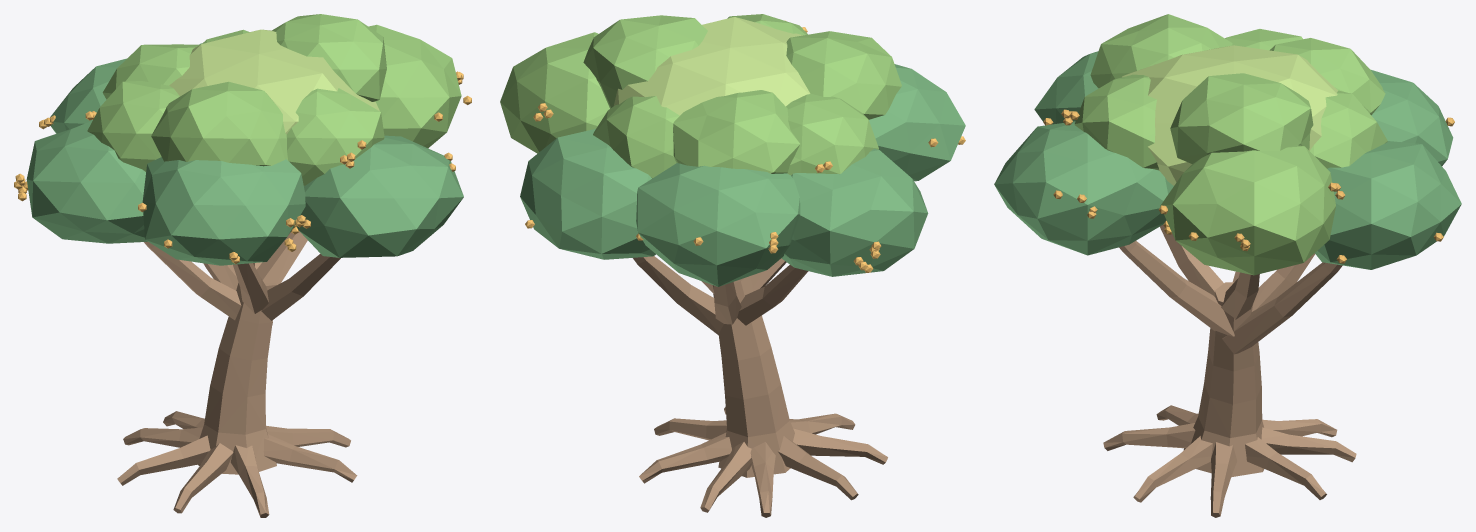
Rendered from arvore_ancia.fbx.
3 renders of one model, left to right at view 1: azimuth 30°, elevation 25°; view 2: azimuth 150°, elevation 25°; view 3: azimuth 270°, elevation 25°, orthographic. The views are drawn at different scales.
Visible parts, largest first — view 1: arvore_ancia~Copa 8@leafdark, arvore_ancia~Copa 10@leafdark, arvore_ancia~Copa 6@leafdark, arvore_ancia~Copa 9@leaf, arvore_ancia~Tronco@bark, arvore_ancia~Copa 12@leaflight, arvore_ancia~Copa 0@leaf, arvore_ancia~Copa 11@leaf, arvore_ancia~Copa 1@leaf, arvore_ancia~Copa 7@leaf, arvore_ancia~Copa 5@leaf, arvore_ancia~Copa 4@leafdark (+12 smaller); view 2: arvore_ancia~Copa 4@leafdark, arvore_ancia~Copa 6@leafdark, arvore_ancia~Copa 2@leafdark, arvore_ancia~Copa 12@leaflight, arvore_ancia~Copa 5@leaf, arvore_ancia~Copa 0@leaf, arvore_ancia~Tronco@bark, arvore_ancia~Copa 9@leaf, arvore_ancia~Copa 8@leafdark, arvore_ancia~Copa 1@leaf, arvore_ancia~Copa 7@leaf, arvore_ancia~Copa 3@leaf (+11 smaller); view 3: arvore_ancia~Copa 0@leaf, arvore_ancia~Copa 10@leafdark, arvore_ancia~Copa 2@leafdark, arvore_ancia~Copa 1@leaf, arvore_ancia~Copa 12@leaflight, arvore_ancia~Tronco@bark, arvore_ancia~Copa 11@leaf, arvore_ancia~Copa 9@leaf, arvore_ancia~Copa 4@leafdark, arvore_ancia~Copa 3@leaf, arvore_ancia~Copa 5@leaf, arvore_ancia~Galho 1@bark (+13 smaller).
Part boxes in pixels (bbox=[...]): arvore_ancia~Copa 8@leafdark: bbox=[142, 157, 305, 265]; arvore_ancia~Copa 10@leafdark: bbox=[296, 135, 463, 257]; arvore_ancia~Copa 6@leafdark: bbox=[26, 120, 147, 243]; arvore_ancia~Copa 9@leaf: bbox=[151, 81, 288, 166]; arvore_ancia~Tronco@bark: bbox=[198, 282, 276, 474]; arvore_ancia~Copa 12@leaflight: bbox=[169, 29, 379, 134]; arvore_ancia~Copa 0@leaf: bbox=[368, 24, 461, 148]; arvore_ancia~Copa 11@leaf: bbox=[286, 88, 384, 185]; arvore_ancia~Copa 1@leaf: bbox=[272, 14, 386, 101]; arvore_ancia~Copa 7@leaf: bbox=[87, 81, 179, 171]; arvore_ancia~Copa 5@leaf: bbox=[102, 44, 199, 99]; arvore_ancia~Copa 4@leafdark: bbox=[50, 58, 126, 133]; arvore_ancia~Copa 4@leafdark: bbox=[636, 163, 800, 286]; arvore_ancia~Copa 6@leafdark: bbox=[781, 148, 928, 276]; arvore_ancia~Copa 2@leafdark: bbox=[520, 129, 655, 259]; arvore_ancia~Copa 12@leaflight: bbox=[614, 17, 810, 115]; arvore_ancia~Copa 5@leaf: bbox=[673, 90, 799, 173]; arvore_ancia~Copa 0@leaf: bbox=[500, 32, 609, 153]; arvore_ancia~Tronco@bark: bbox=[712, 276, 794, 477]; arvore_ancia~Copa 9@leaf: bbox=[786, 31, 901, 119]; arvore_ancia~Copa 8@leafdark: bbox=[869, 64, 965, 181]; arvore_ancia~Copa 1@leaf: bbox=[583, 15, 707, 108]; arvore_ancia~Copa 7@leaf: bbox=[786, 93, 878, 175]; arvore_ancia~Copa 3@leaf: bbox=[593, 96, 679, 178]; arvore_ancia~Copa 0@leaf: bbox=[1160, 145, 1335, 275]; arvore_ancia~Copa 10@leafdark: bbox=[994, 121, 1173, 255]; arvore_ancia~Copa 2@leafdark: bbox=[1315, 141, 1461, 269]; arvore_ancia~Copa 1@leaf: bbox=[1170, 73, 1313, 163]; arvore_ancia~Copa 12@leaflight: bbox=[1122, 45, 1337, 185]; arvore_ancia~Tronco@bark: bbox=[1183, 282, 1264, 477]; arvore_ancia~Copa 11@leaf: bbox=[1074, 74, 1159, 170]; arvore_ancia~Copa 9@leaf: bbox=[1090, 14, 1232, 88]; arvore_ancia~Copa 4@leafdark: bbox=[1371, 70, 1453, 165]; arvore_ancia~Copa 3@leaf: bbox=[1310, 90, 1387, 168]; arvore_ancia~Copa 5@leaf: bbox=[1269, 38, 1385, 115]; arvore_ancia~Galho 1@bark: bbox=[1222, 262, 1342, 354].
Bounding box in the file's own units: 14.23 × 13.65 × 13.56.
